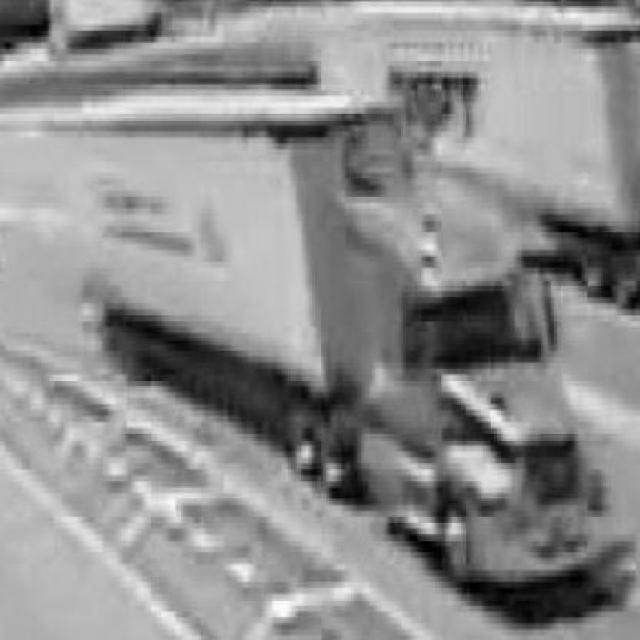Box Truck: (56, 87, 585, 586)
